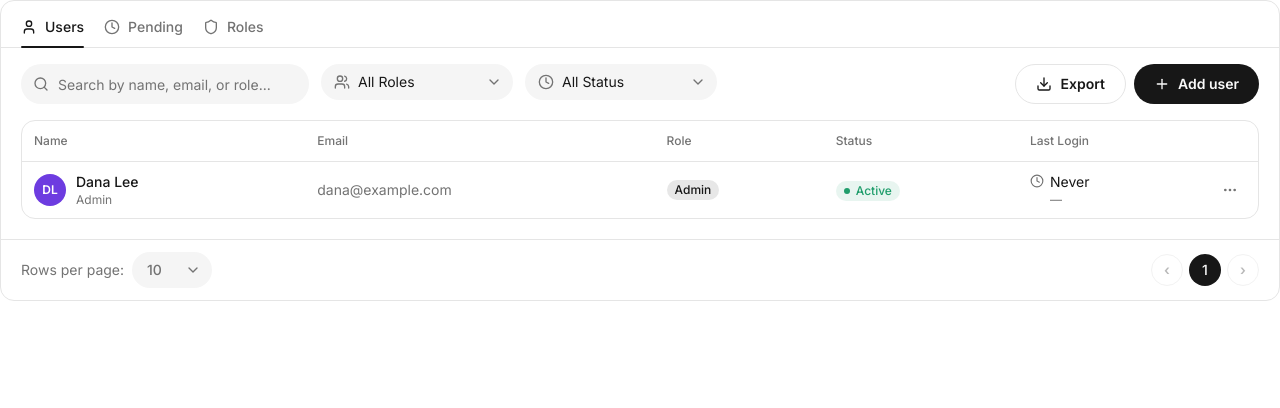
Test: Users & Roles — no users match the filter › names every filter applied, search included
This screenshot has width=1280, height=408.
Expected: the button "Dana Lee" is shown, [76,172,138,192]
Click the button with aria-label "Status: All Status".
click(621, 82)  # box [525,64,717,100]
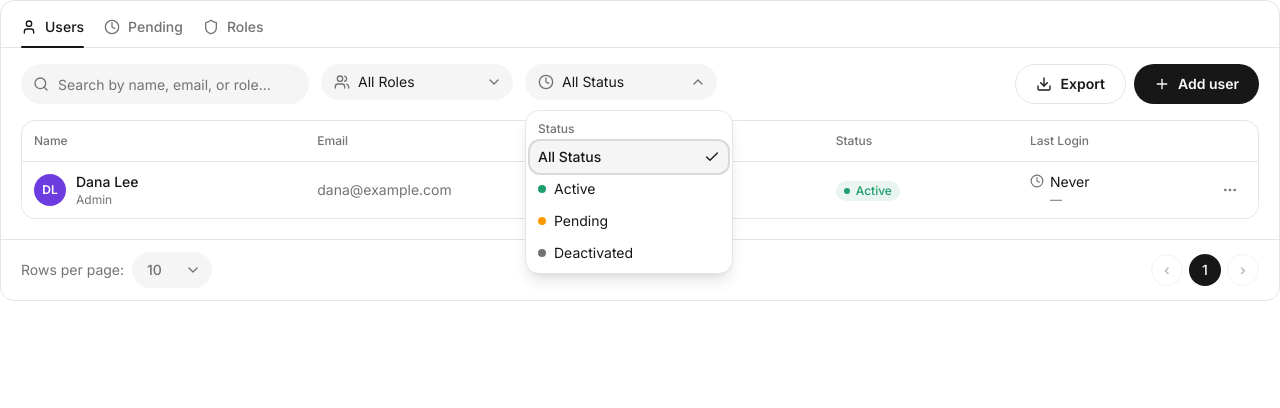
Click the option "Deactivated".
click(629, 253)  # box [530,237,728,269]
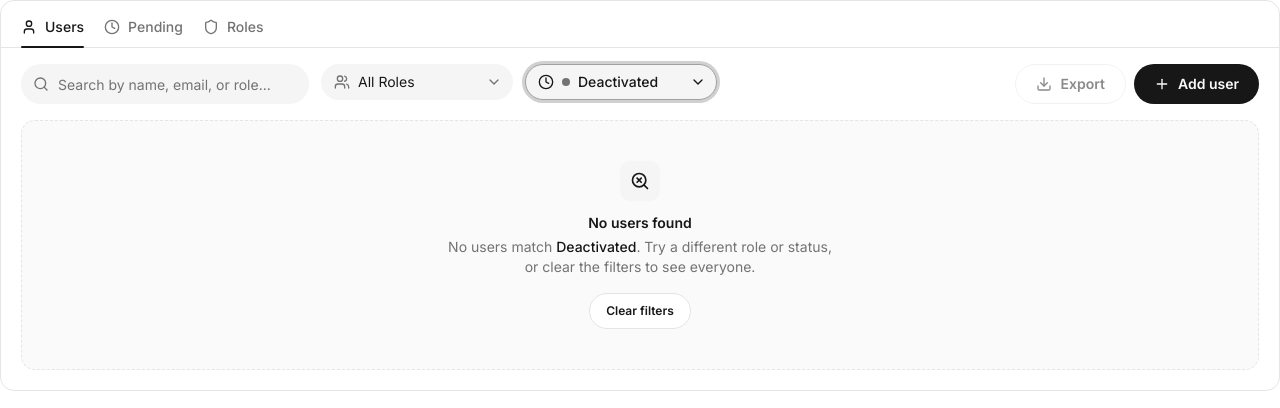
Type "zed" into the search field with placeholder "Search by name, email, or role...".
click(165, 84); type("zed")  # box [21,64,309,104]
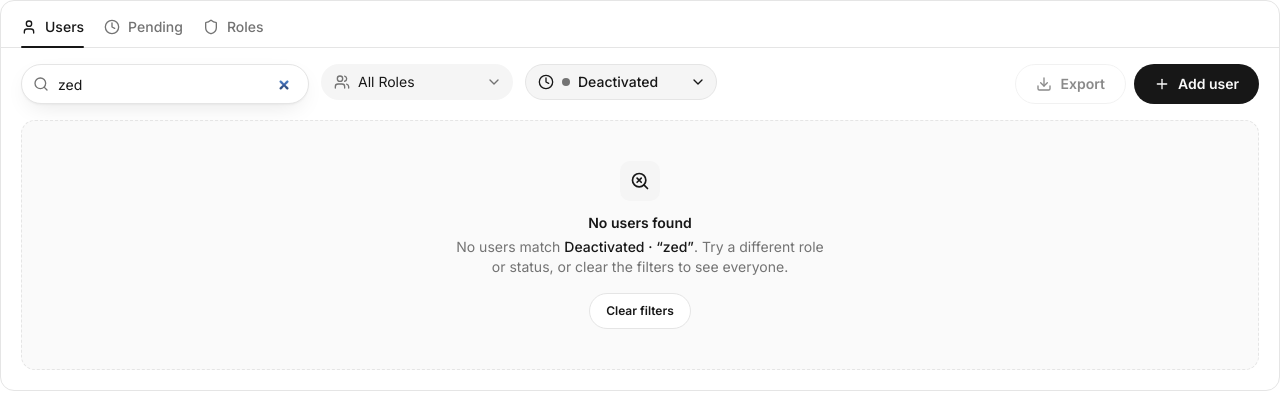
Expected: the message shows "No users match Deactivated · “zed”.", [21,120,1259,370]
